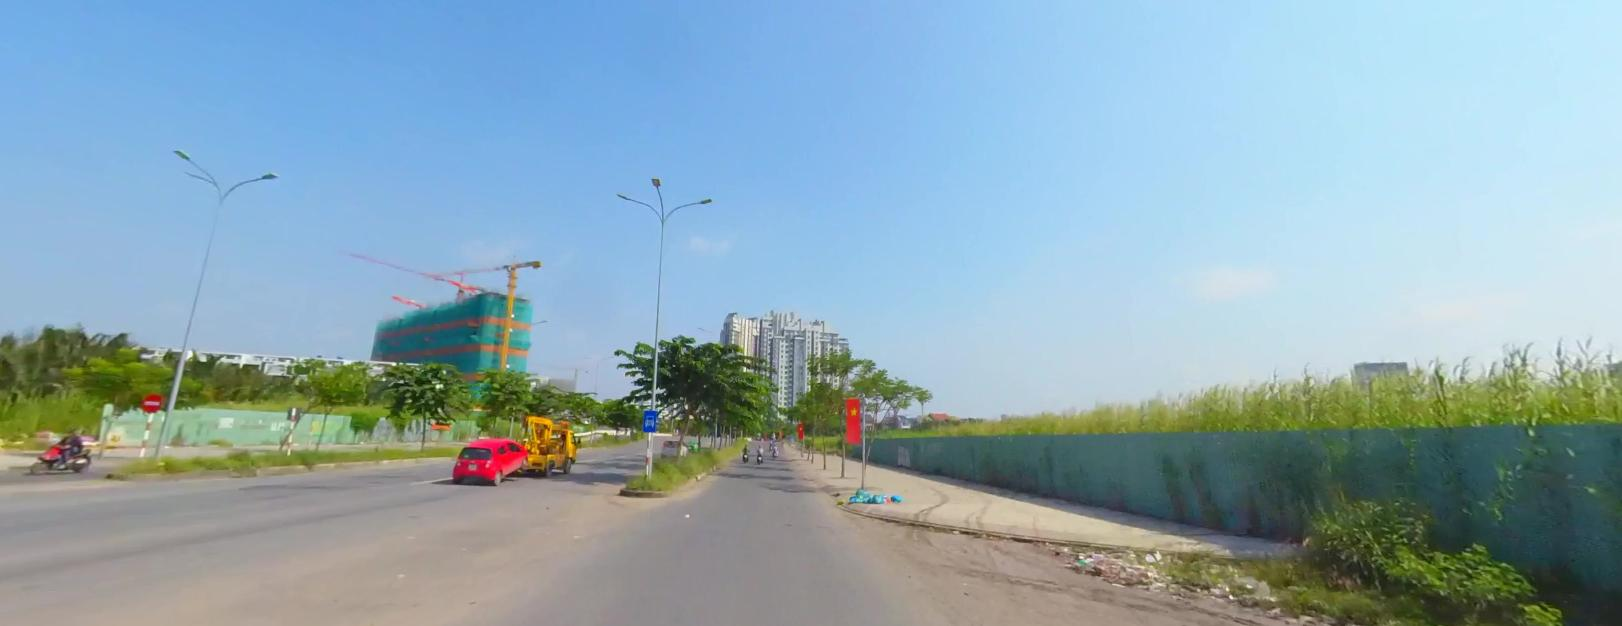Cam nguoc chieu: (140, 390, 160, 410)
